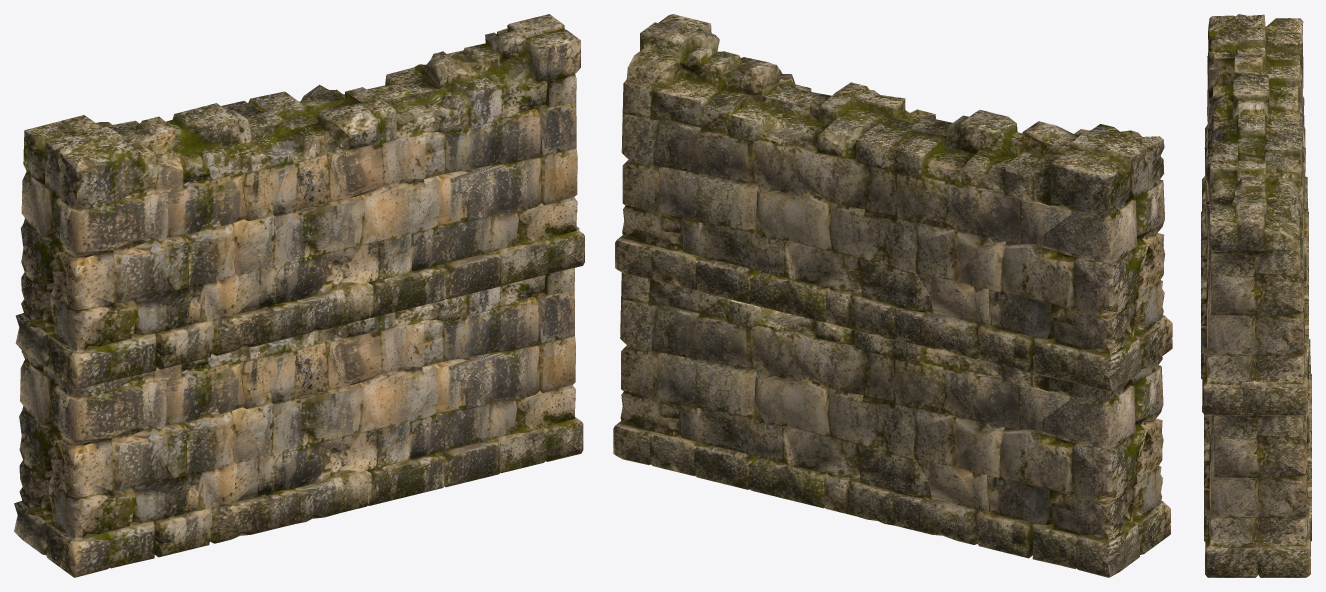
The model's file is ADP_Tutorial_LiftStone.fbx.
3 renders of one model, left to right at view 1: azimuth 30°, elevation 25°; view 2: azimuth 150°, elevation 25°; view 3: azimuth 270°, elevation 25°, orthographic. The views are drawn at different scales.
Visible parts, largest first — view 1: StoneLayer1_0, StoneLayer0_0; view 2: StoneLayer1_0, StoneLayer0_0; view 3: StoneLayer1_0, StoneLayer0_0.
Part boxes in pixels (x1=…): StoneLayer1_0: x1=15, y1=14, x2=584, y2=389; StoneLayer0_0: x1=14, y1=226, x2=583, y2=577; StoneLayer1_0: x1=615, y1=14, x2=1172, y2=392; StoneLayer0_0: x1=613, y1=272, x2=1170, y2=577; StoneLayer1_0: x1=1201, y1=14, x2=1308, y2=415; StoneLayer0_0: x1=1204, y1=339, x2=1311, y2=577.
Size of the model in its own units: 3.6 by 2.8 by 0.7879.
